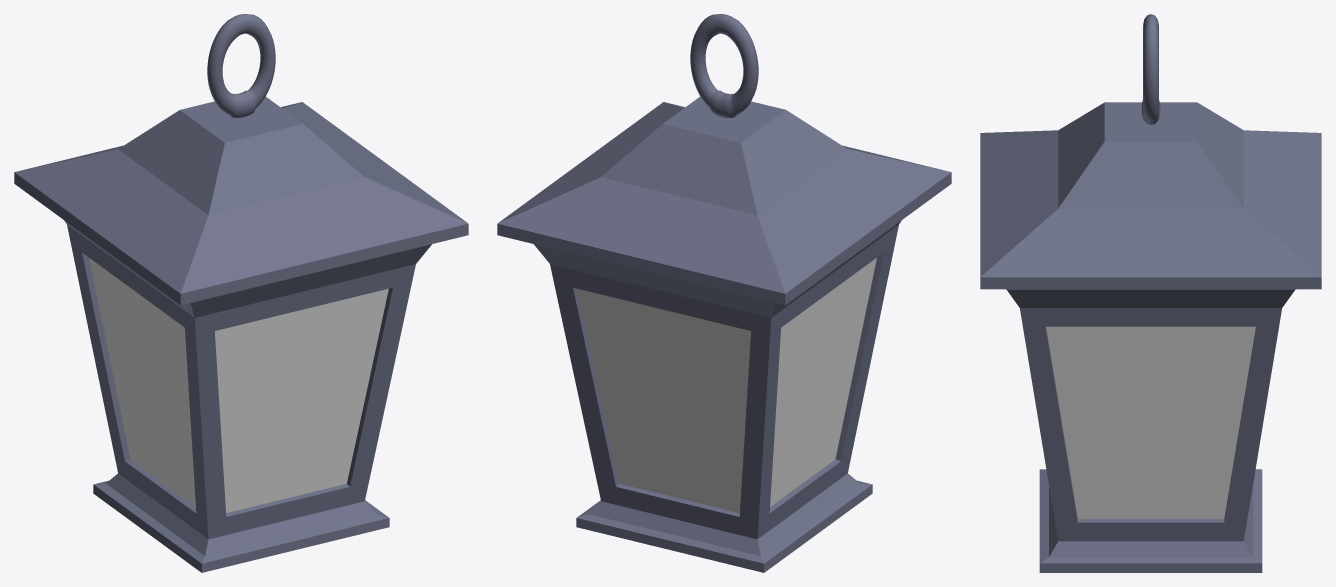
File: Lanterne 1.fbx
3 renders of one model, left to right at view 1: azimuth 30°, elevation 25°; view 2: azimuth 150°, elevation 25°; view 3: azimuth 270°, elevation 25°, orthographic. The views are drawn at different scales.
Parts seen in each view (by area): view 1: Plane, Torus; view 2: Plane, Torus; view 3: Plane, Torus.
Part boxes in pixels (left/top/right/bottom): Plane: left=14, top=96, right=468, bottom=572; Torus: left=207, top=14, right=275, bottom=118; Plane: left=497, top=96, right=951, bottom=572; Torus: left=690, top=14, right=758, bottom=118; Plane: left=980, top=102, right=1321, bottom=572; Torus: left=1141, top=14, right=1160, bottom=125.
Size of the model in its own units: 260 by 260 by 428.
